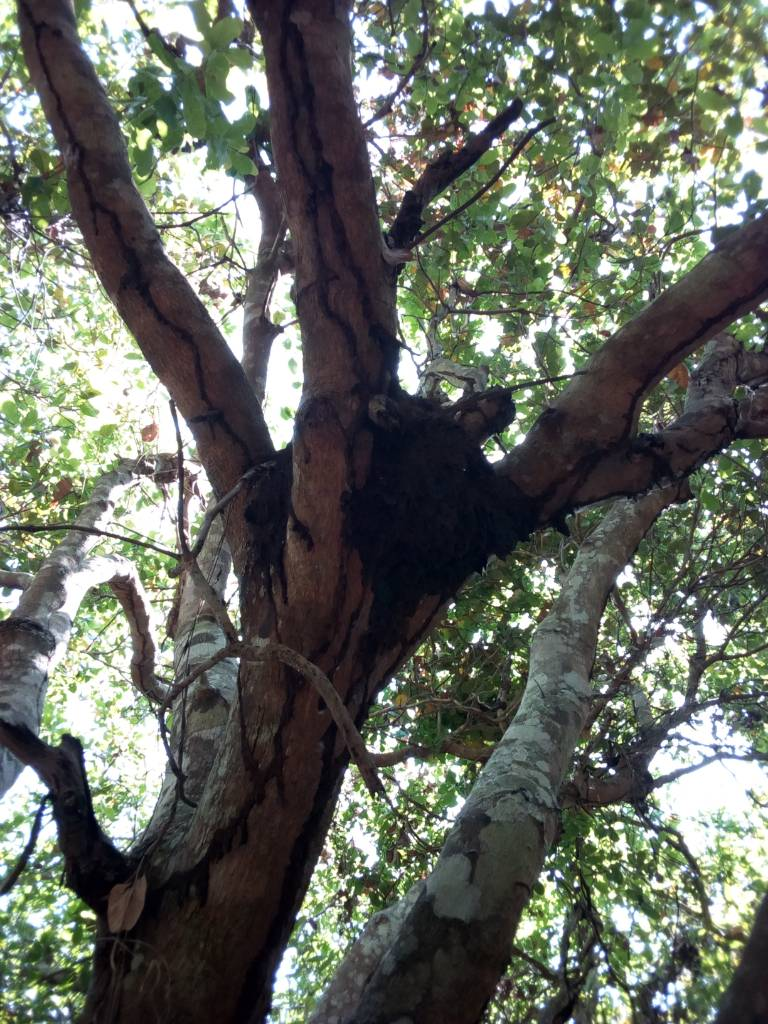Termites: (283, 28, 399, 378), (365, 394, 530, 577), (208, 727, 305, 982)
